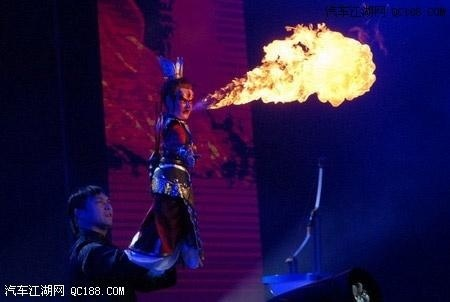fire: (208, 21, 378, 109)
